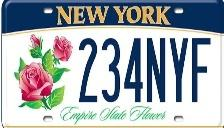2: (77, 37, 101, 105)
3: (101, 36, 123, 105)
4: (124, 36, 144, 102)
F: (191, 36, 213, 104)
N: (145, 36, 168, 104)
Y: (169, 36, 188, 103)
